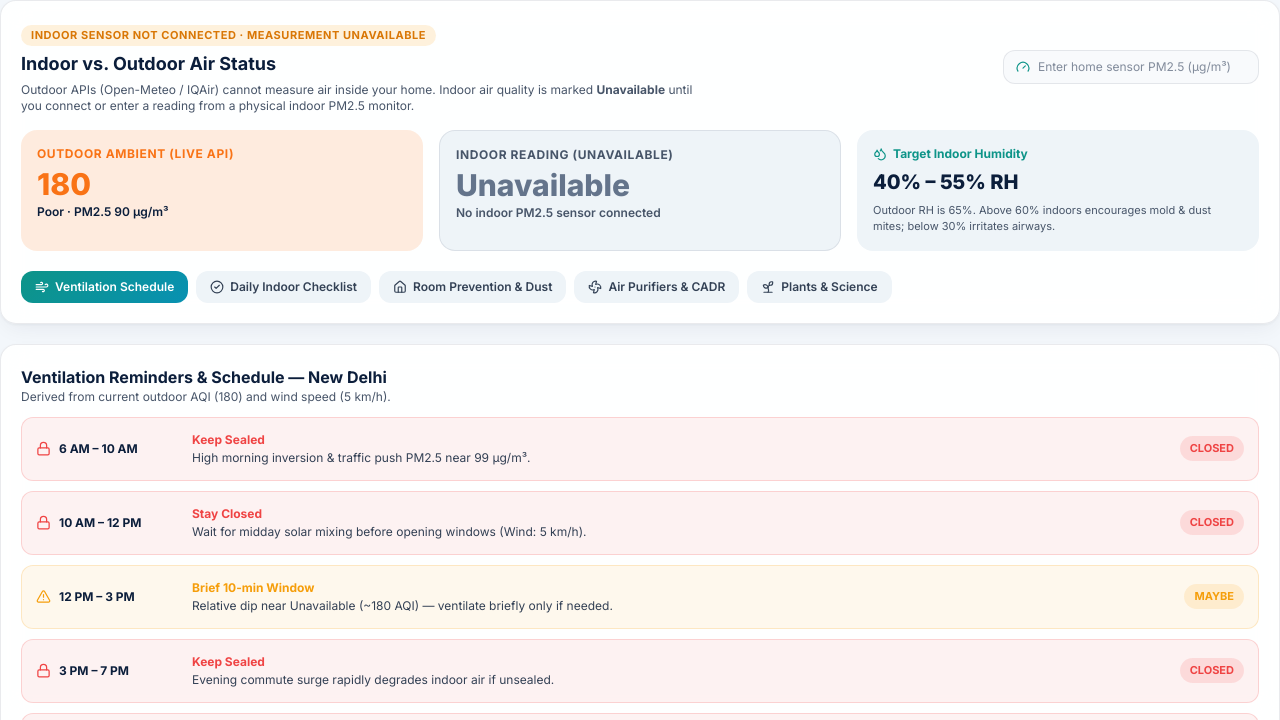
Scenario: React Components & Accessibility Tests › IndoorAir marks indoor readings Unavailable unless a user sensor PM2.5 is entered
Check: the text "Indoor Sensor Not Connected · Measurement Unavailable" is shown, box top-left (21, 25), bottom-right (436, 46)
In the number field named "Enter home PM2.5 sensor reading": (1142, 67) top-left (1038, 59), bottom-right (1246, 75), type "20"
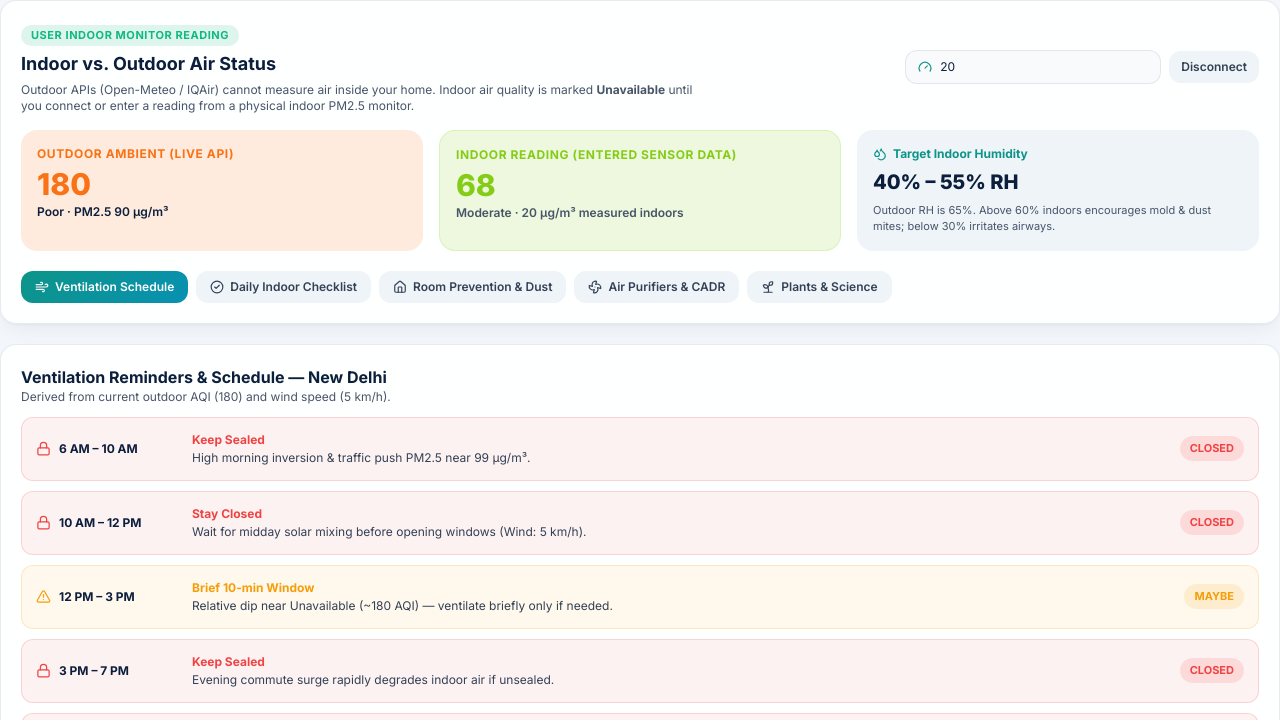
Check: the text "User Indoor Monitor Reading" is shown, box top-left (21, 25), bottom-right (239, 46)
Check: the text "Moderate · 20 µg/m³ measured indoors" is shown, box top-left (456, 204), bottom-right (684, 220)
